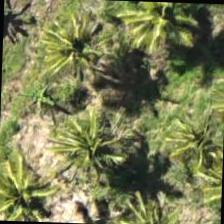Kelapa_Sawit: (33, 0, 126, 94), (47, 102, 140, 195), (155, 95, 223, 188), (111, 0, 203, 61), (0, 148, 67, 223)
